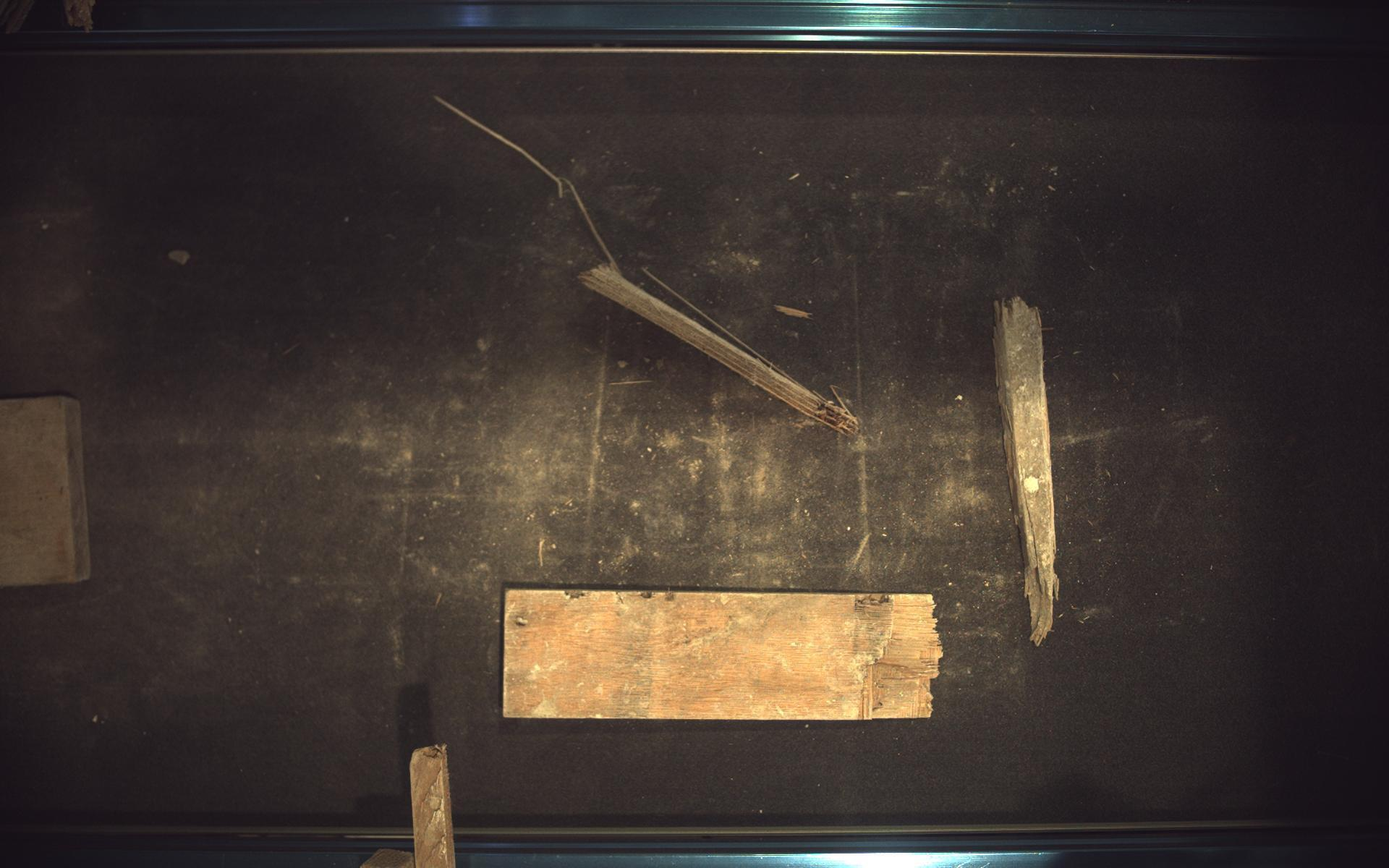wood: (504, 589, 944, 721), (579, 265, 860, 435), (998, 296, 1061, 646)
